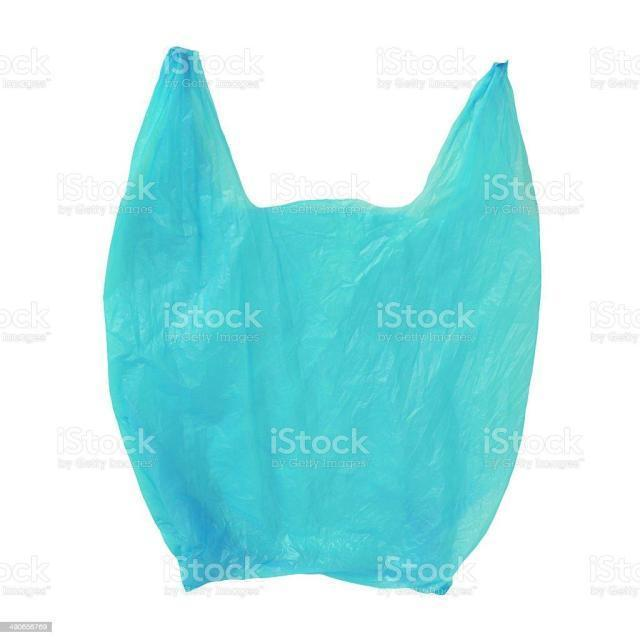Plastic_Bag: (122, 37, 526, 606)
